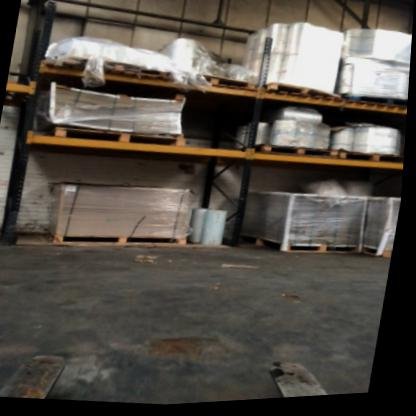vertical_damage: (9, 202, 29, 225)
